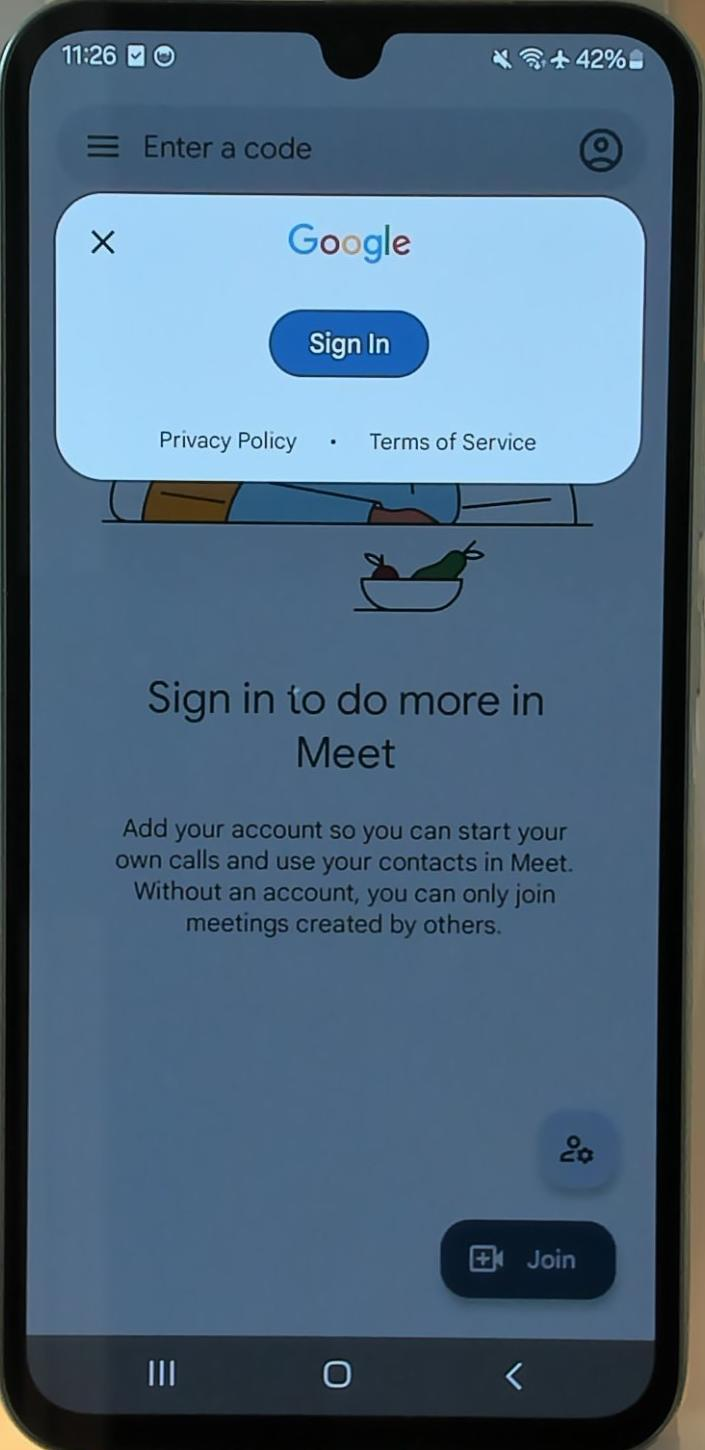CommunBotton: (432, 1206, 636, 1314), (258, 300, 436, 392), (524, 1102, 636, 1194), (570, 116, 632, 186), (488, 1346, 536, 1406), (78, 216, 126, 270), (134, 1342, 180, 1398), (318, 1352, 362, 1396)
